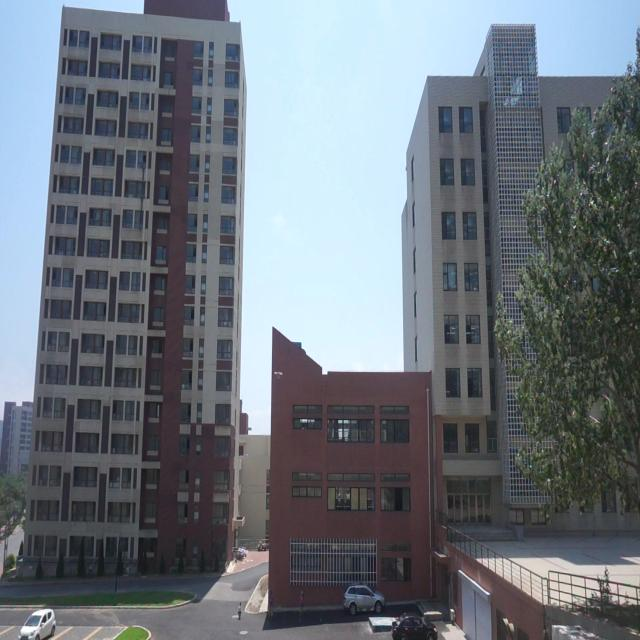drone: (272, 368, 288, 380)
